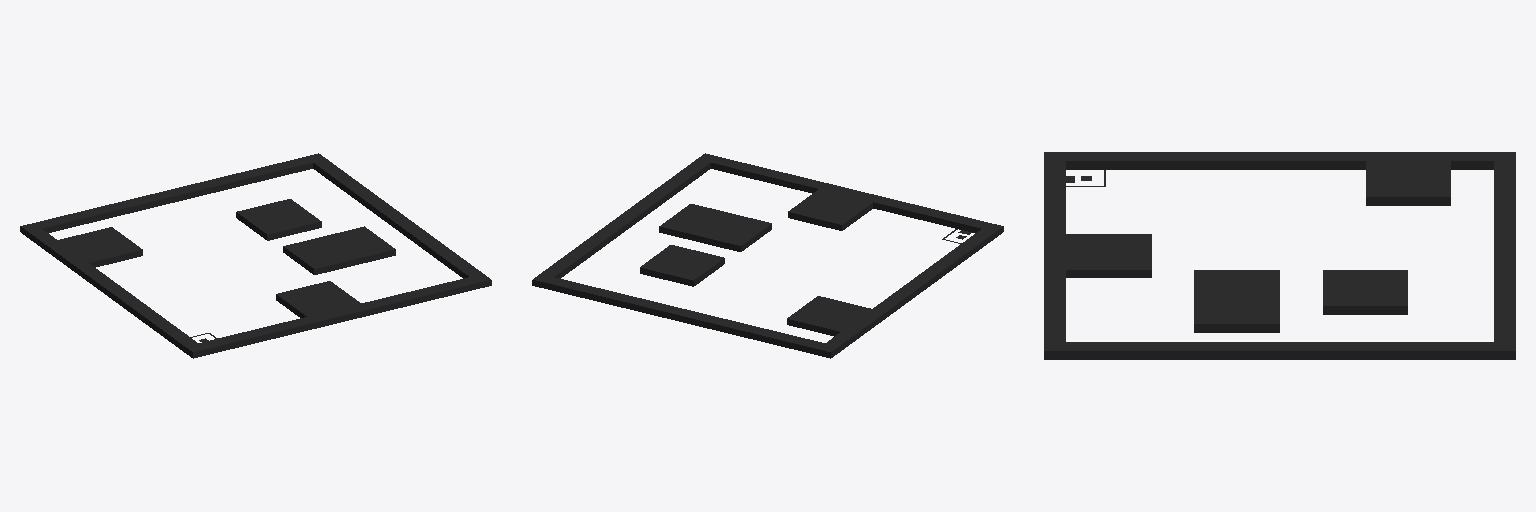
robot.urdf — Room36:
<robot name="Room36">
    <link name="_name">
        <visual> 
            <origin rpy="0.0 0.0 0.0" xyz="-0.5174434204472265 -0.49439593869735743 -0.010000000000000002" />
                <geometry>
                    <mesh filename="Room36/Room36.obj" scale="1 1 0.1" />
                </geometry>

            <material name="black">
                <color rgba="0.2 0.2 0.2 0.95" />
            </material>
        </visual>

       <collision concave="yes" name="collision_0">
            <origin rpy="0.0 0.0 0.0" xyz="-0.5174434204472265 -0.49439593869735743 -0.010000000000000002" />
            <geometry>
                <mesh filename="Room36/Room36_vhacd.obj" scale="1 1 0.1" />
            </geometry>
        </collision>

        <inertial> 
            <mass value="0" />
            <inertia ixx="0" ixy="0" ixz="0" iyy="0" iyz="0" izz="0" />
        </inertial> 
    </link>
</robot>

--- Render facts (derived) ---
Views: 3 orthographic renders of the robot side by side, from view 1: azimuth 30°, elevation 25°; view 2: azimuth 150°, elevation 25°; view 3: azimuth 270°, elevation 25°.
Robot: Room36 — 1 links, 0 joints (none); root link _name; default pose: every joint at zero.
Visible links, largest first — view 1: _name; view 2: _name; view 3: _name.
Link boxes in pixels (x1=…): _name: x1=20, y1=153, x2=491, y2=358; _name: x1=532, y1=153, x2=1003, y2=358; _name: x1=1044, y1=152, x2=1515, y2=359.
Size in the robot's own frame: 1 by 1 by 0.02 metres.
1 mesh visuals loaded from 1 distinct referenced files (1 OBJ).